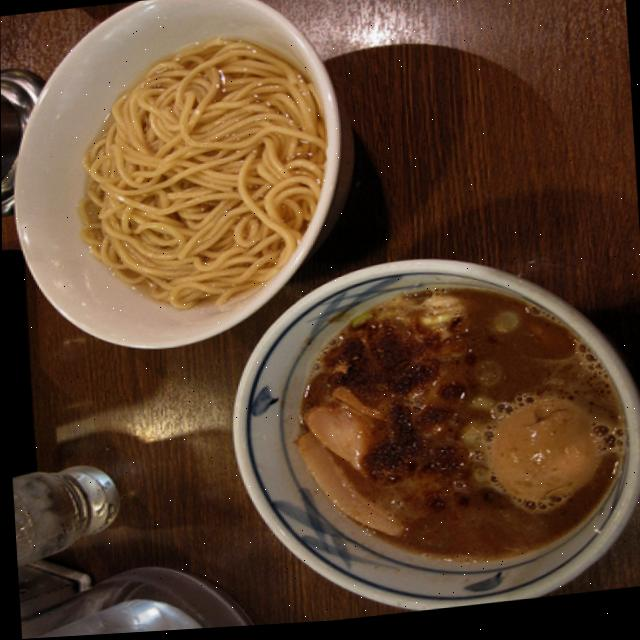面条主食: (71, 11, 636, 614)
